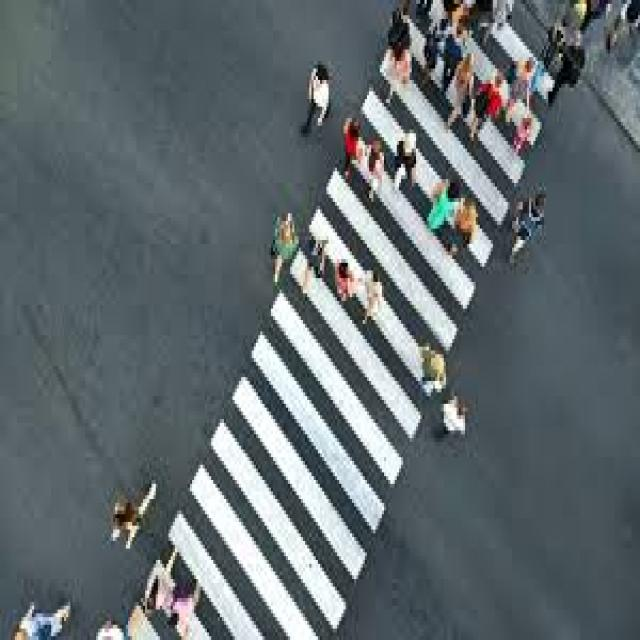Pedestrians: (510, 183, 550, 270), (111, 488, 156, 548), (268, 210, 298, 286), (303, 61, 331, 137), (448, 202, 482, 259), (438, 396, 472, 446), (363, 259, 386, 328), (420, 343, 448, 392)
